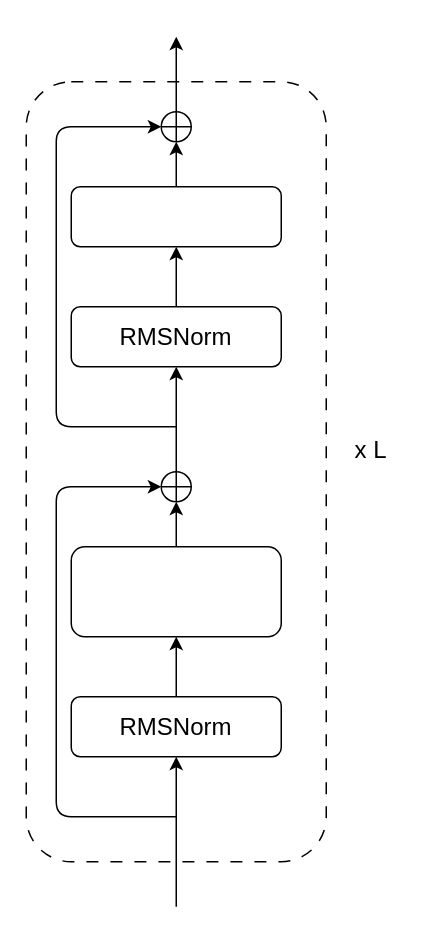
Image size: 443x945. Some labels were removed from this diagram. The shapes that lost their labels are listed below. From the top down, each one's centre as x and y in pixels, then its label:
[175,216]: DeepSeekMoE
[175,591]: Multi-Head Latent Attention
